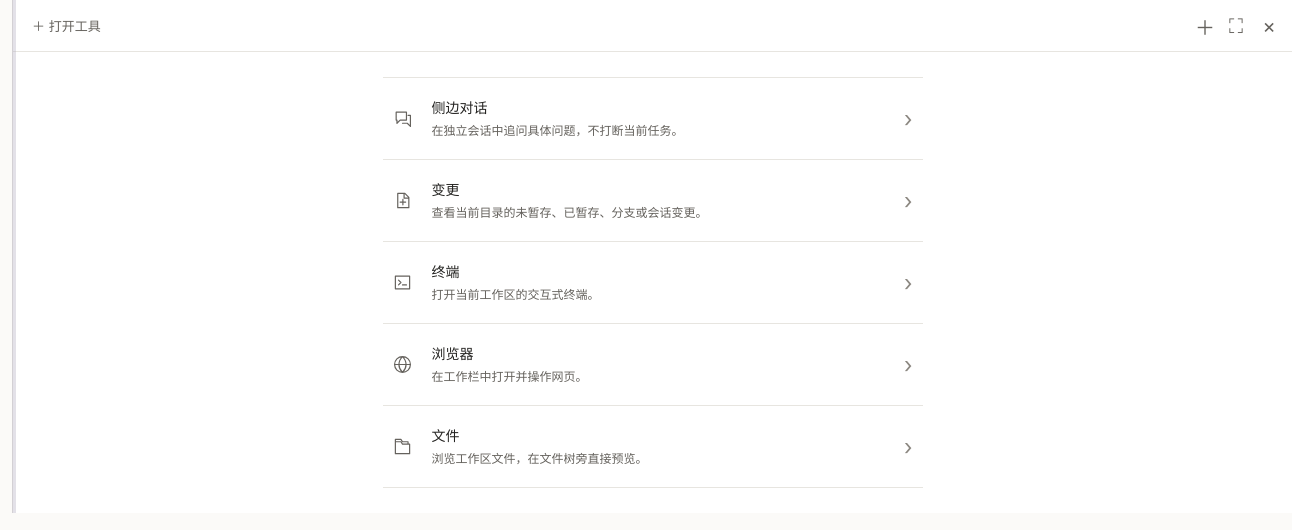
workspace workbench › opens a changed file in the file tab with authoritative scope
Click the button "变更 查看当前目录的未暂存、已暂存、分支或会话变更。 ›" at point(570, 212), box x1=382 y1=159 x2=922 y2=241
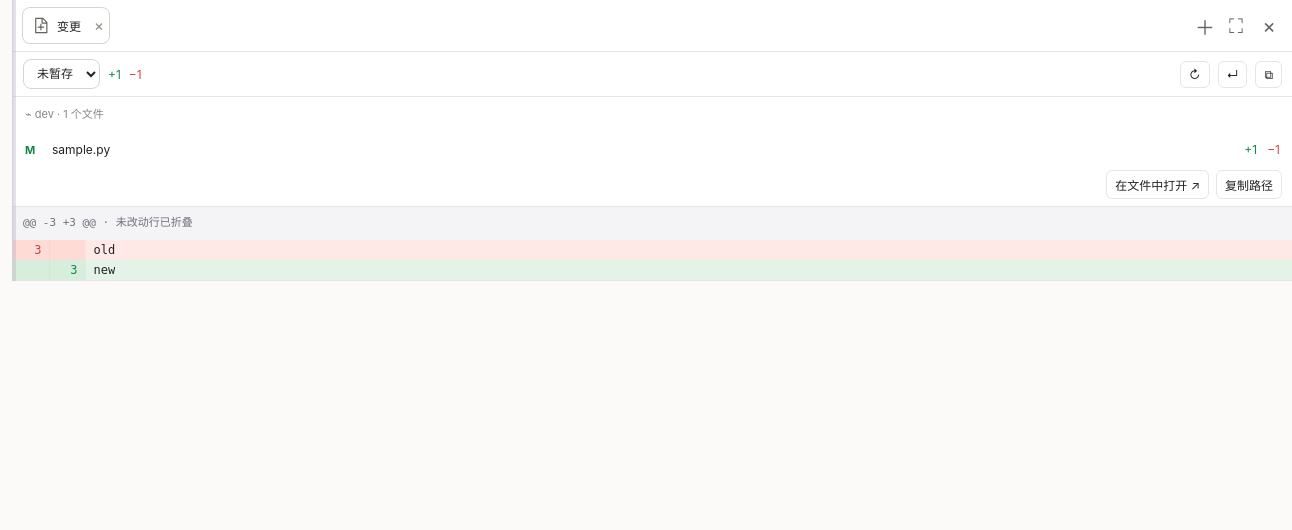
Click the button "在文件中打开 ↗" at point(1158, 184), box x1=1106 y1=170 x2=1209 y2=199
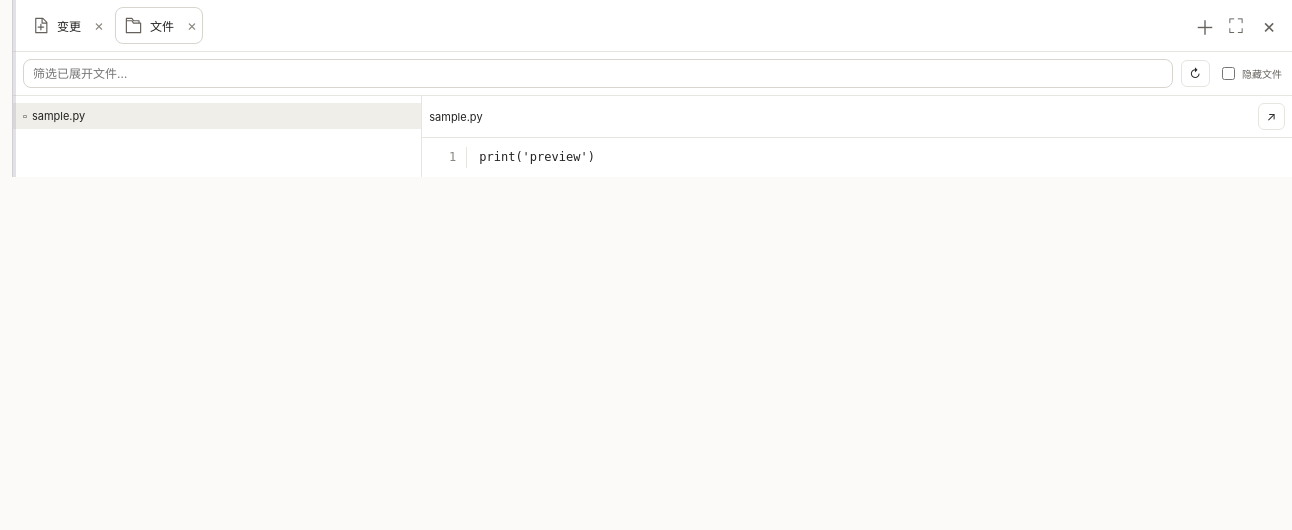
Check: the text "print('preview')" is shown, box x1=479 y1=150 x2=595 y2=164
